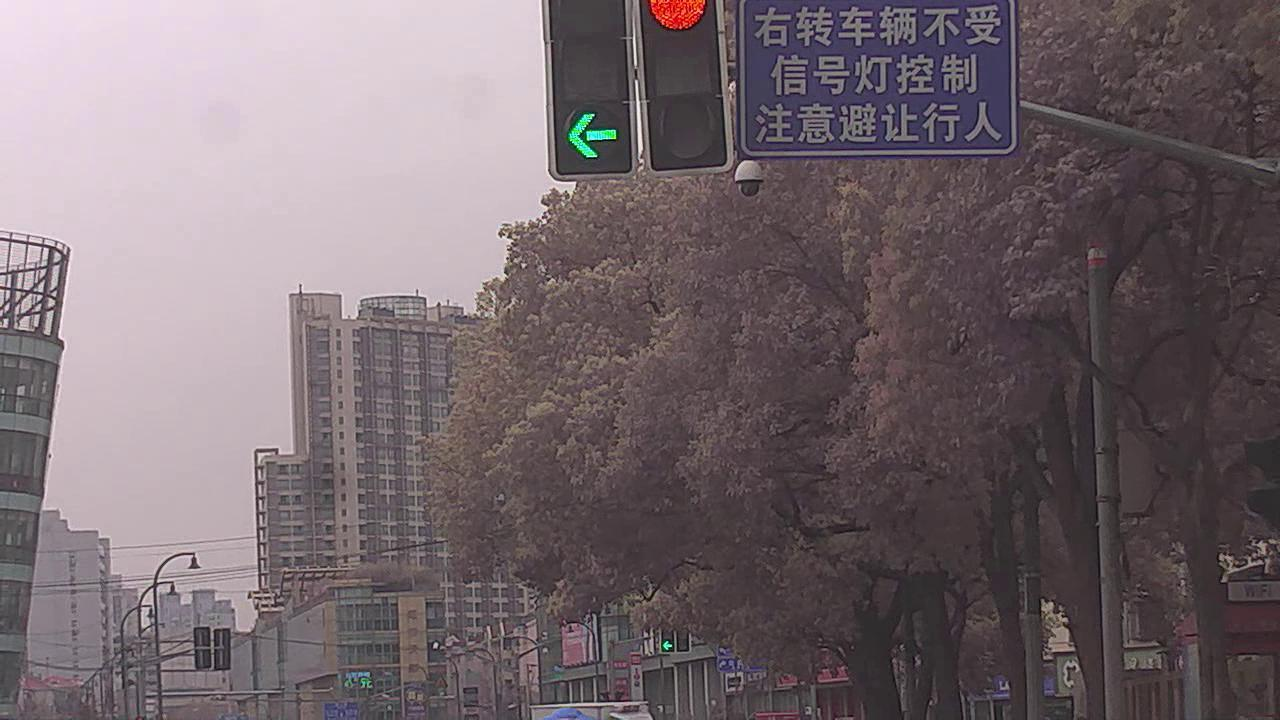traffic_light: (547, 6, 634, 182), (641, 1, 730, 169)
